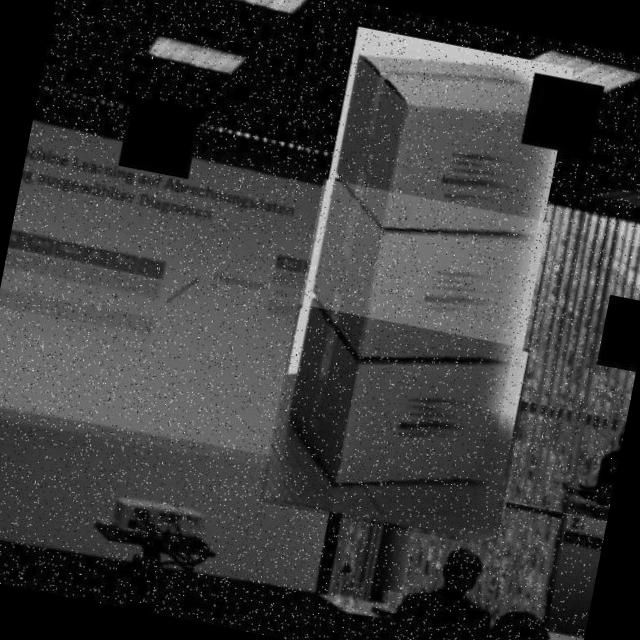box: (259, 305, 534, 548), (318, 24, 576, 261), (292, 179, 552, 390)
